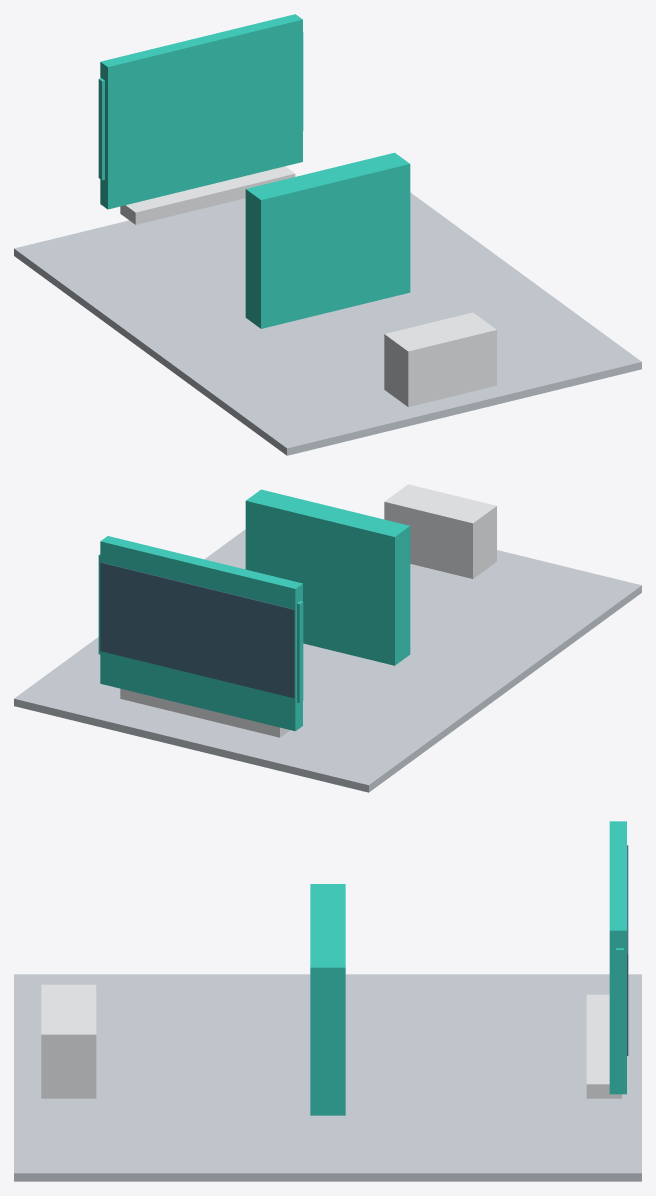
The picture shows the model from 3 angles, top to bottom: view 1: azimuth 30°, elevation 25°; view 2: azimuth 150°, elevation 25°; view 3: azimuth 270°, elevation 25°; orthographic projection. The views are drawn at different scales.
Visible parts, largest first — view 1: Exhibition Booth Concept; view 2: Exhibition Booth Concept; view 3: Exhibition Booth Concept.
Boxes of the visible parts, <box> form: Exhibition Booth Concept: <box>14,14,641,455</box>; Exhibition Booth Concept: <box>14,484,641,792</box>; Exhibition Booth Concept: <box>14,821,641,1181</box>.
Size of the model in its own units: 6 by 2.9 by 8.
